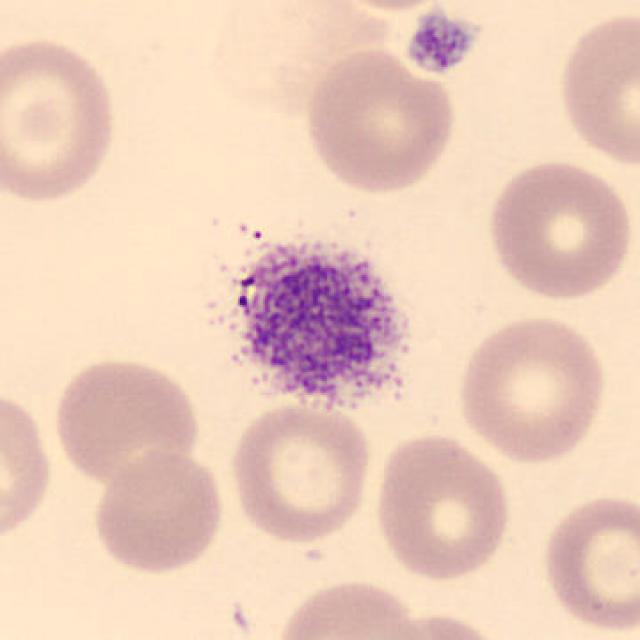Platelets: (199, 222, 432, 427), (402, 7, 482, 78)
RBC: (298, 44, 461, 198), (452, 310, 612, 466), (482, 155, 636, 303), (370, 428, 514, 586), (224, 398, 375, 545), (0, 32, 123, 208), (48, 352, 204, 487), (201, 0, 366, 120), (89, 446, 227, 577), (537, 488, 638, 636), (553, 7, 638, 171), (274, 575, 428, 640), (0, 384, 59, 550), (374, 610, 511, 640), (314, 0, 466, 14)
